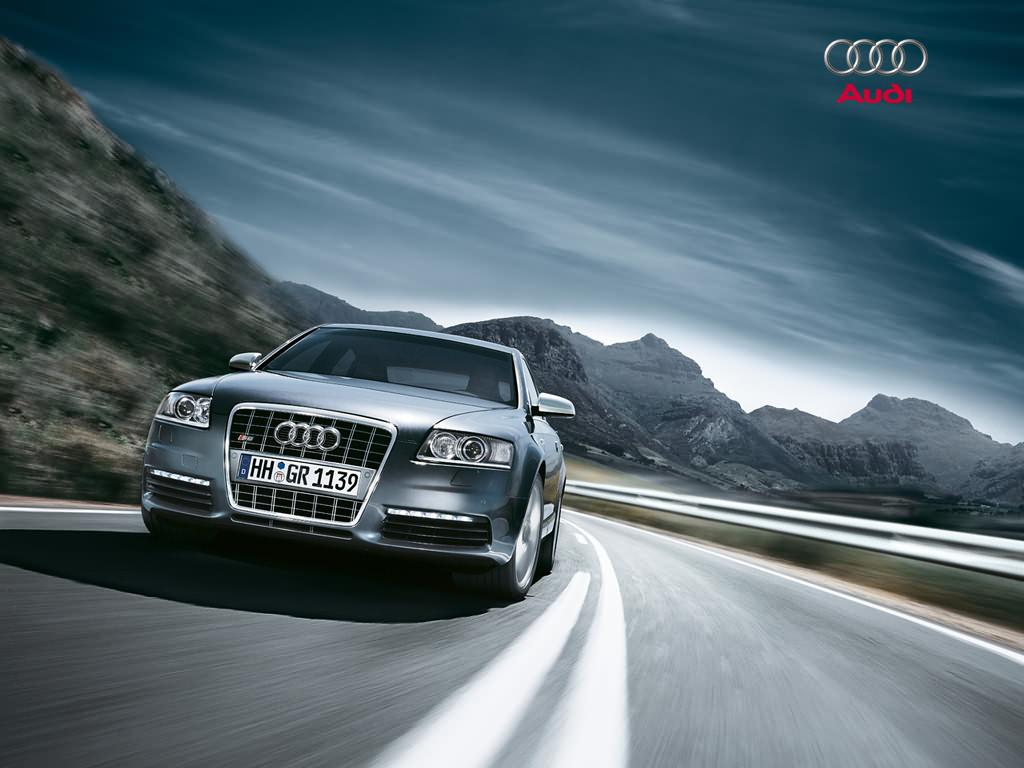car: (145, 318, 588, 613)
